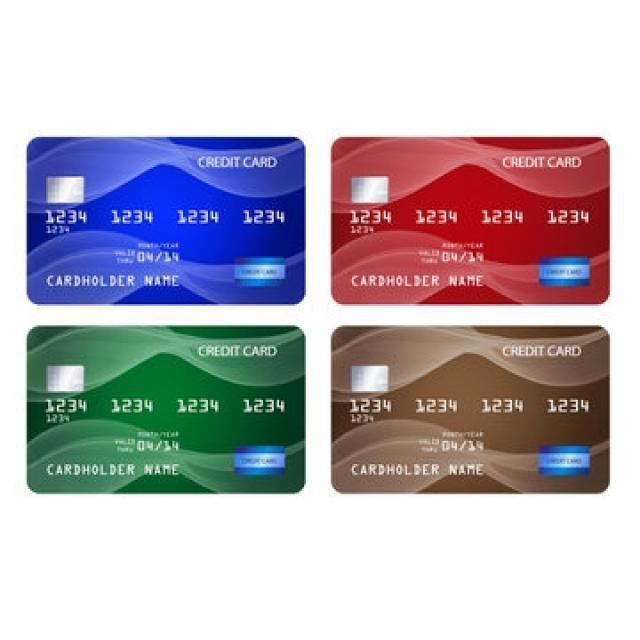payment_card: (24, 322, 308, 495), (329, 322, 609, 493), (25, 135, 306, 305), (329, 135, 610, 305)
